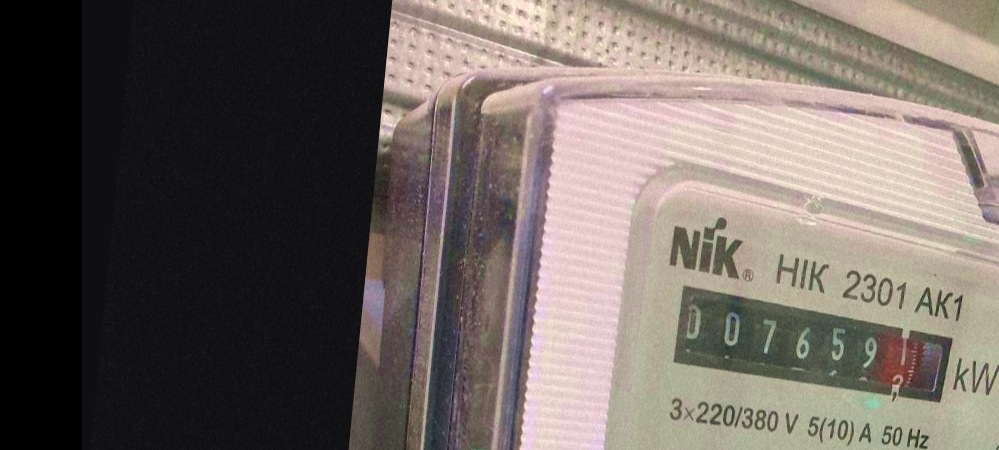0: (717, 306, 745, 349), (678, 299, 705, 342)
1: (892, 335, 913, 370)
5: (825, 324, 848, 363)
6: (790, 321, 814, 362)
7: (755, 315, 778, 357)
9: (858, 333, 879, 371)
screen: (660, 275, 963, 422)
